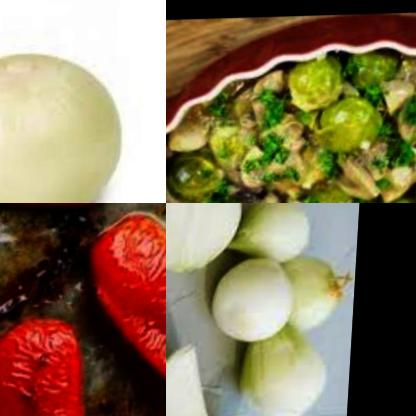bell pepper: (78, 205, 166, 416), (0, 319, 106, 416), (0, 203, 162, 228)
brus capusta: (293, 60, 382, 157), (175, 153, 233, 203)
onion: (0, 49, 132, 203), (234, 325, 338, 416), (214, 255, 303, 354), (230, 203, 318, 276), (278, 250, 356, 331), (166, 203, 249, 273), (166, 332, 228, 416)
